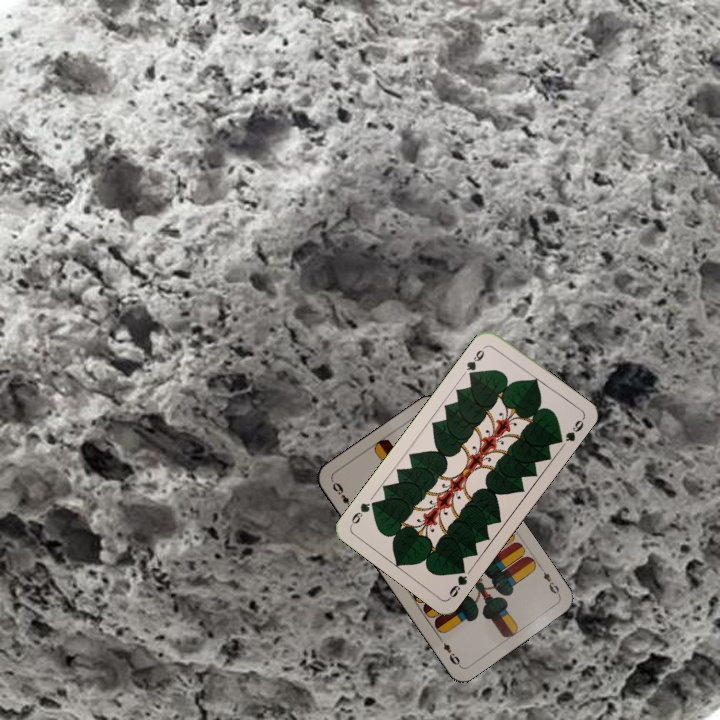E9: (536, 562, 563, 599), (328, 478, 355, 513)
G9: (462, 342, 489, 380), (445, 562, 470, 601)
